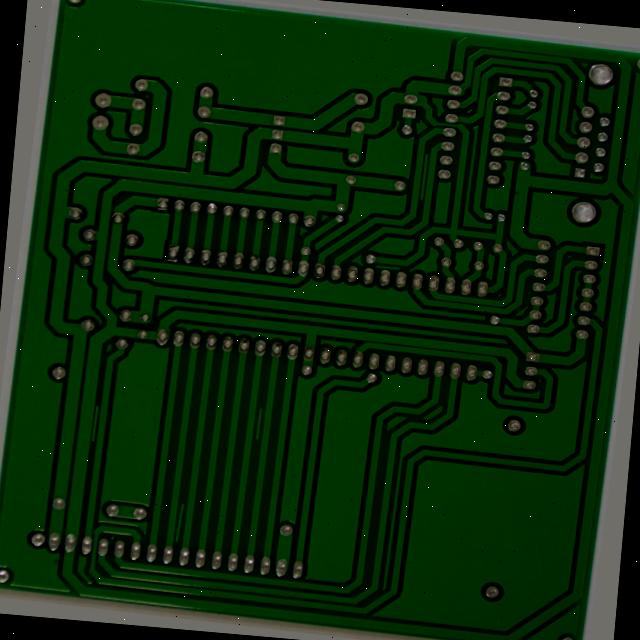spurious_copper: (413, 142, 433, 195), (81, 410, 103, 455), (252, 406, 271, 449), (175, 509, 191, 554), (370, 255, 406, 268)
